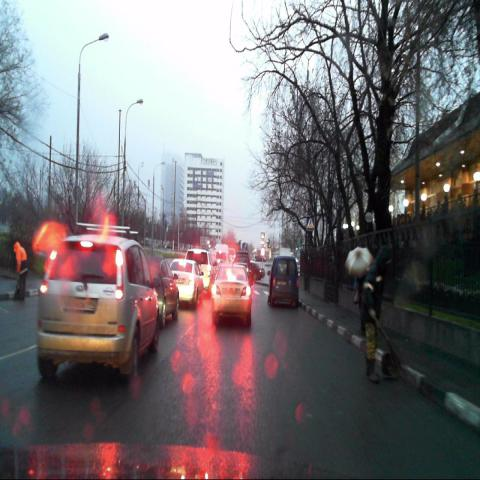5_19_1: (306, 217, 314, 230)
